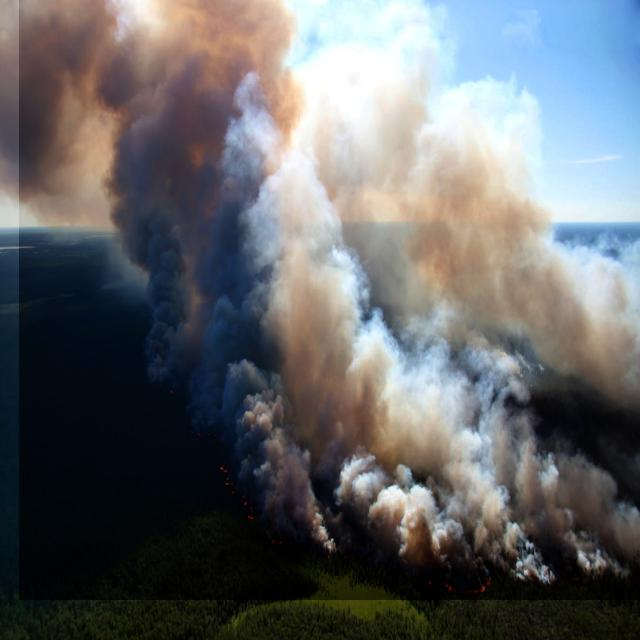Smoke: (19, 0, 640, 600)
